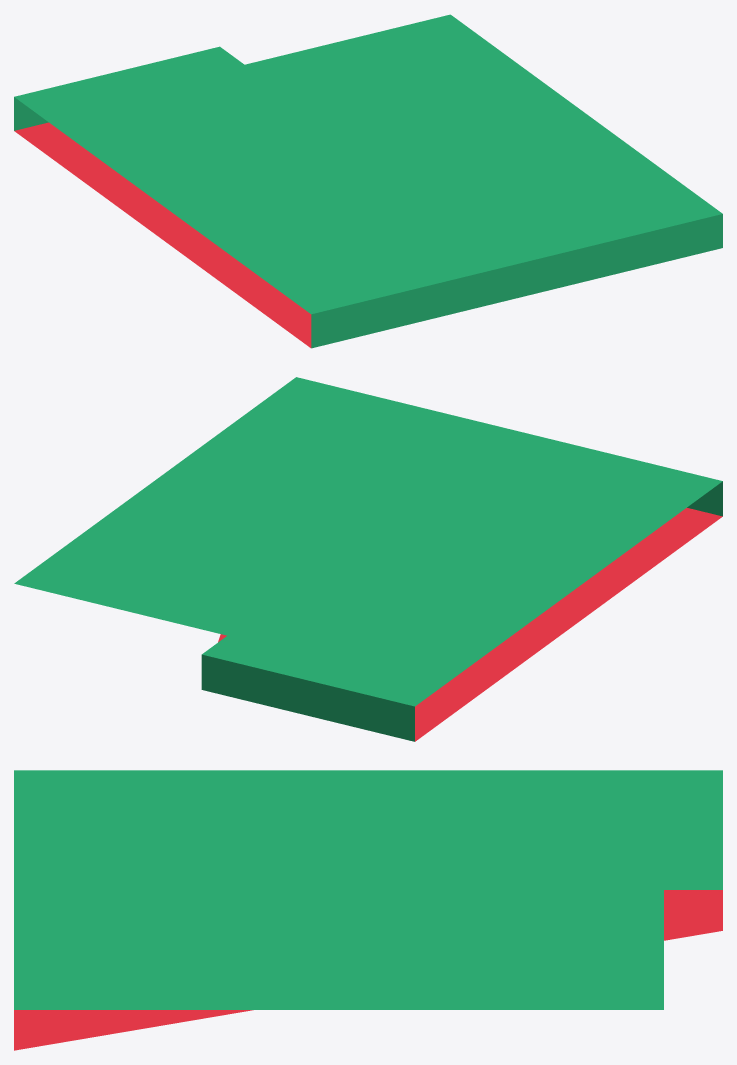
The model's file is wallLeft_base.FBX.
3 renders of one model, top to bottom at view 1: azimuth 30°, elevation 25°; view 2: azimuth 150°, elevation 25°; view 3: azimuth 270°, elevation 25°, orthographic. The views are drawn at different scales.
Visible parts, largest first — view 1: wallLeft; view 2: wallLeft; view 3: wallLeft.
Boxes of the visible parts, x1=… form: wallLeft: x1=14, y1=14, x2=722, y2=348; wallLeft: x1=14, y1=377, x2=722, y2=741; wallLeft: x1=14, y1=770, x2=722, y2=1050.
Size of the model in its own units: 79.99 by 6.33 by 99.99.
